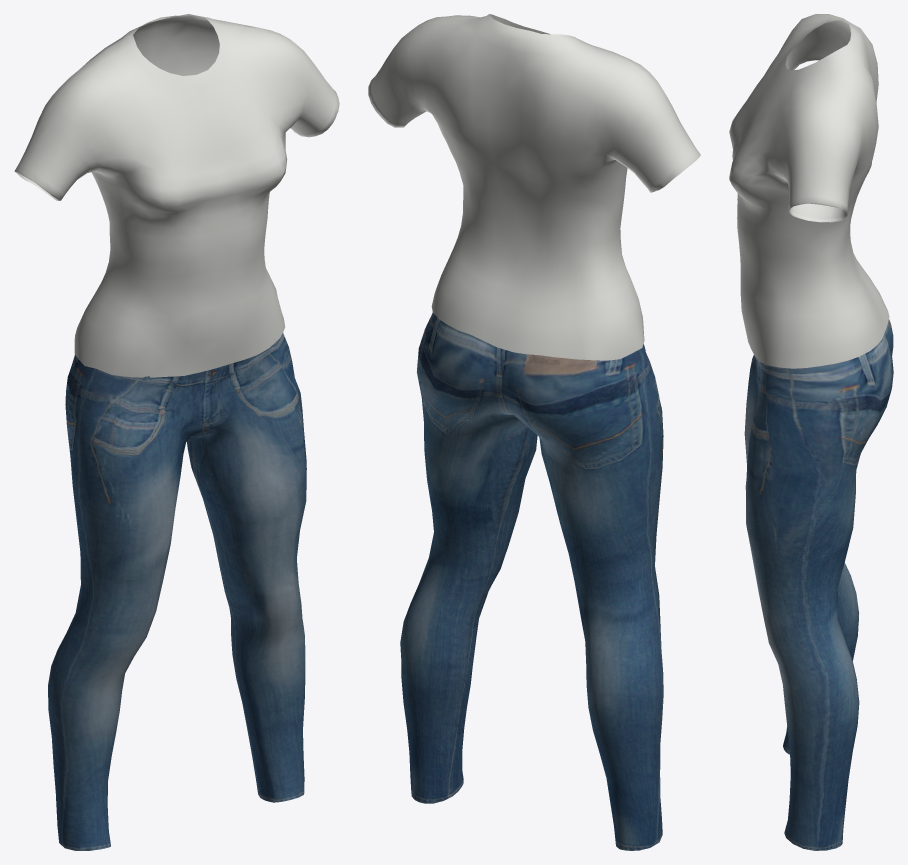
File: female-casual-outfit.glb
3 views of the same model, side by side, from view 1: azimuth 30°, elevation 25°; view 2: azimuth 150°, elevation 25°; view 3: azimuth 270°, elevation 25° (orthographic). The views are drawn at different scales.
Parts seen in each view (by area): view 1: female-jeans, female-shirt; view 2: female-jeans, female-shirt; view 3: female-jeans, female-shirt.
Part boxes in pixels (x1=…): female-jeans: x1=48, y1=333, x2=306, y2=850; female-shirt: x1=14, y1=14, x2=339, y2=377; female-jeans: x1=400, y1=312, x2=663, y2=850; female-shirt: x1=368, y1=14, x2=700, y2=360; female-jeans: x1=744, y1=319, x2=893, y2=850; female-shirt: x1=729, y1=14, x2=889, y2=368.
Bounding box in the file's own units: 0.9292 × 2.23 × 0.4342.
Materials: 2 (1 with a texture image).
